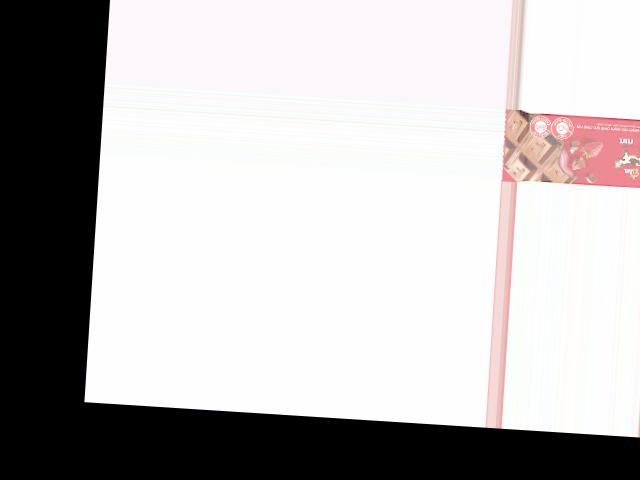chocolate: (503, 108, 640, 191)
